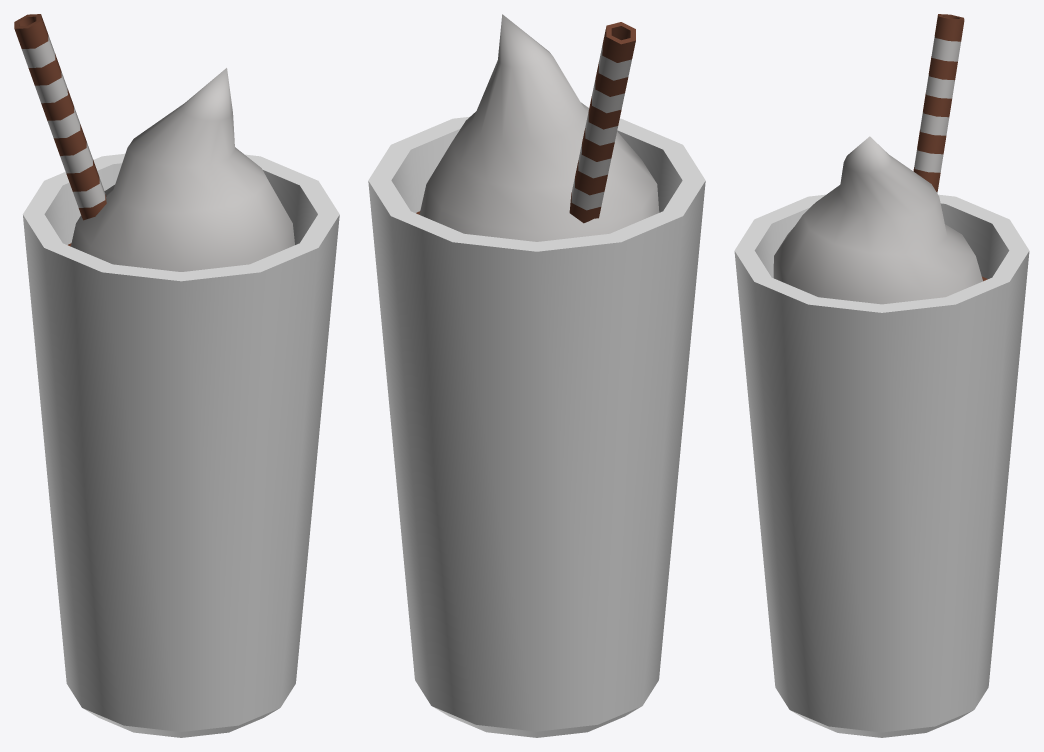
Rendered from Smoothie_01.fbx.
3 views of the same model, side by side, from view 1: azimuth 30°, elevation 25°; view 2: azimuth 150°, elevation 25°; view 3: azimuth 270°, elevation 25° (orthographic). The views are drawn at different scales.
Parts seen in each view (by area): view 1: Smoothie_01; view 2: Smoothie_01; view 3: Smoothie_01.
Boxes of the visible parts, box(x1,y1,x2,y2) form: Smoothie_01: box(14, 14, 339, 737); Smoothie_01: box(368, 14, 705, 737); Smoothie_01: box(734, 14, 1029, 737).
Bounding box in the file's own units: 0.1054 × 0.25 × 0.1054.
